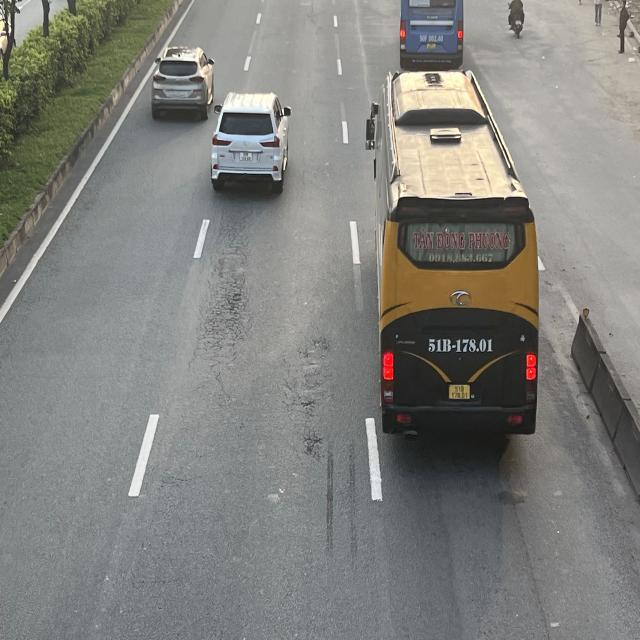car: (210, 92, 293, 196), (154, 44, 219, 118)
coach: (367, 73, 538, 450), (398, 0, 463, 64)
